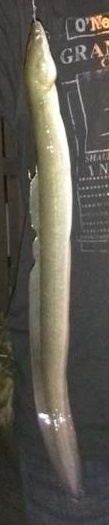Anguilla anguilla: (20, 20, 89, 505)
